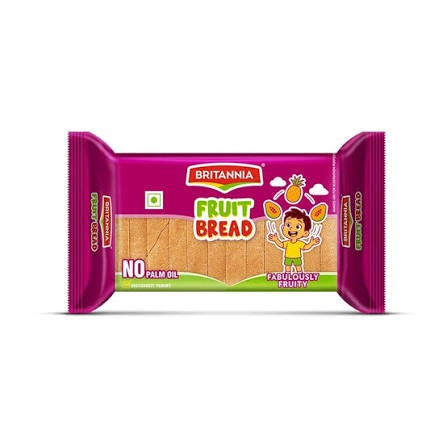Britannaia fruitBread: (18, 133, 399, 304)
